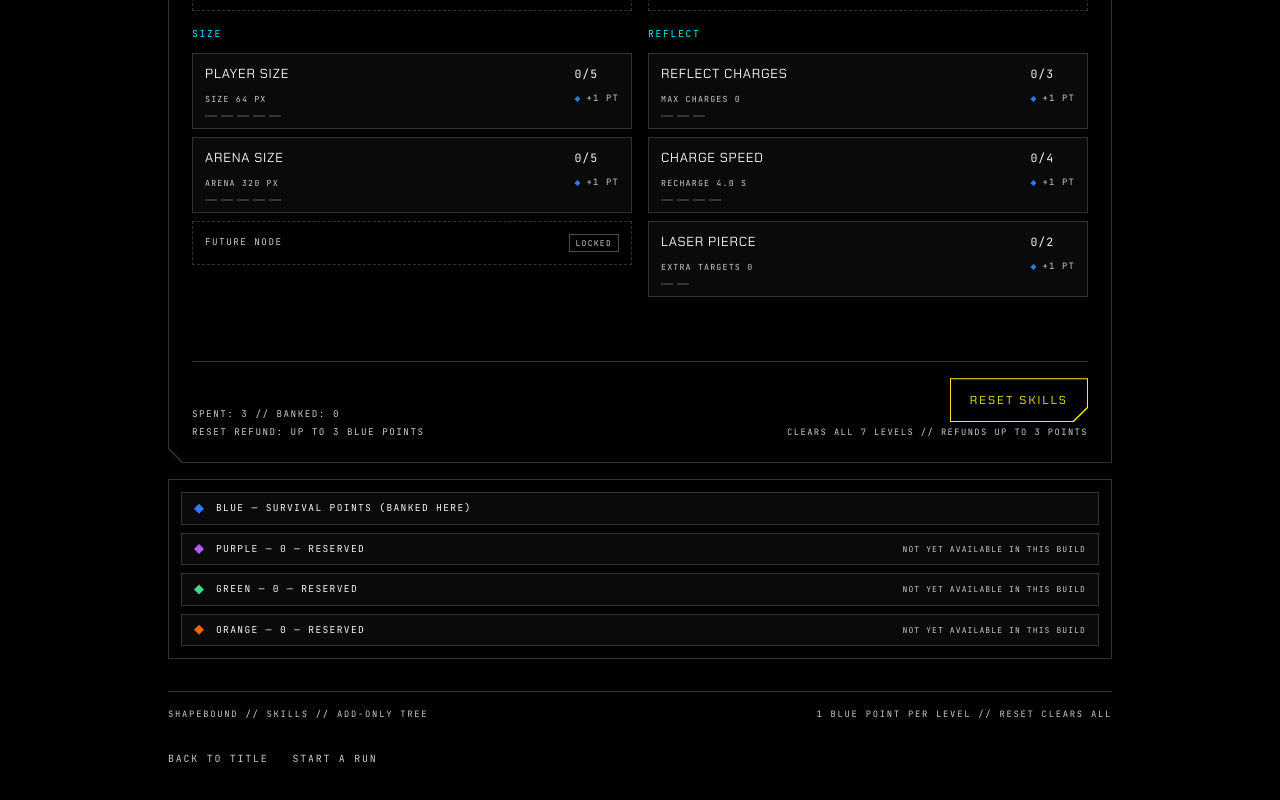
Test case: SkillsScreen › resets all levels, refunds the sum, and returns focus with one write
The width and height of the screenshot is (1280, 800).
(page scrolled)
Step 1. Click the button "Reset Skills" → (1019, 400), box [950,378,1088,422]
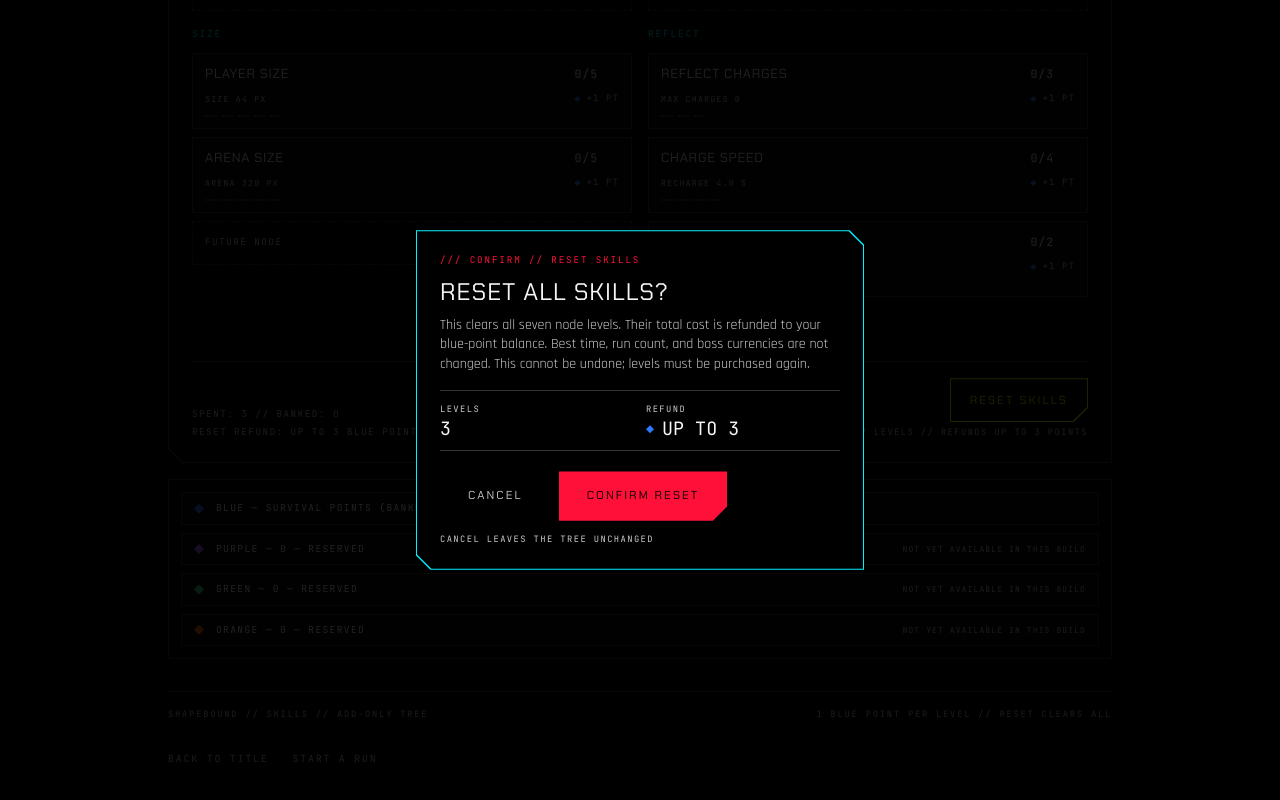
Step 2. Click the button "Confirm reset" → (643, 496), box [559,471,727,521]
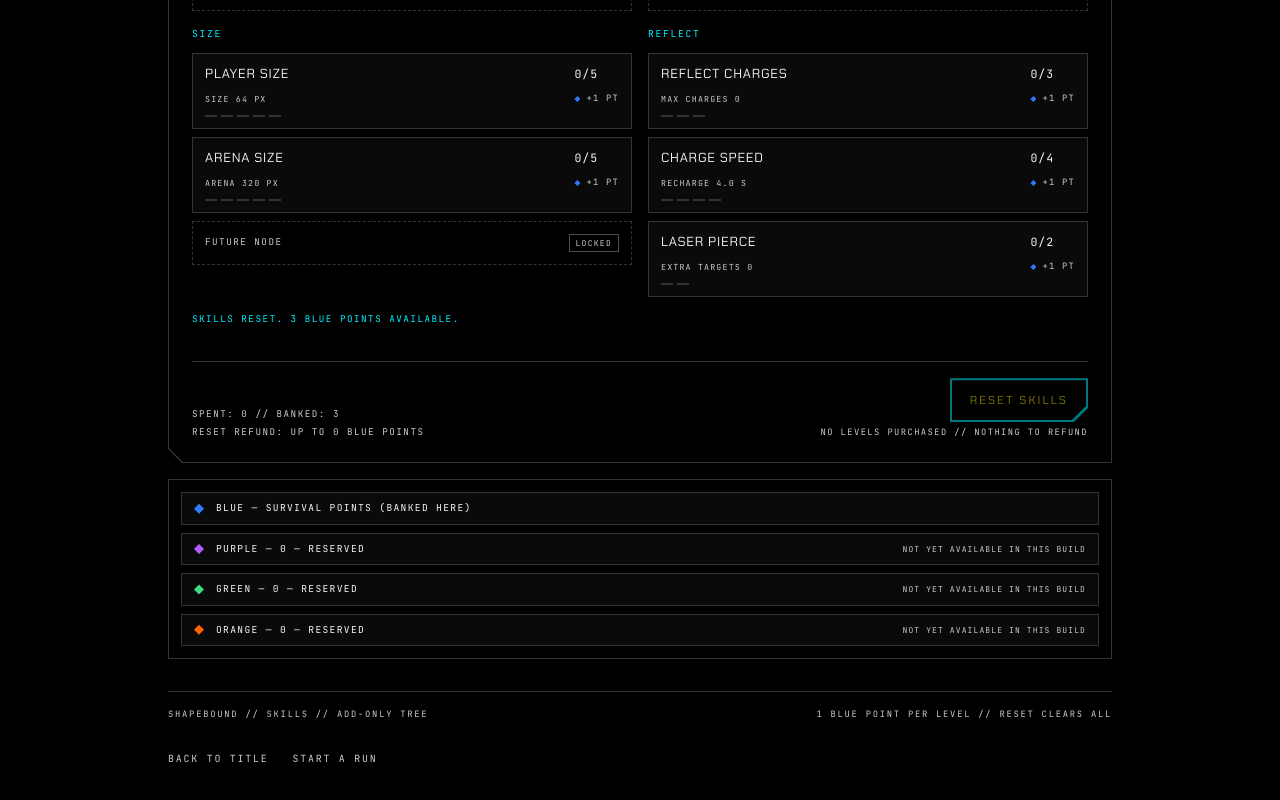
Expected: the dialog is gone
Expected: the message reads "SKILLS RESET. 3 BLUE POINTS AVAILABLE.", [192,313,460,325]
